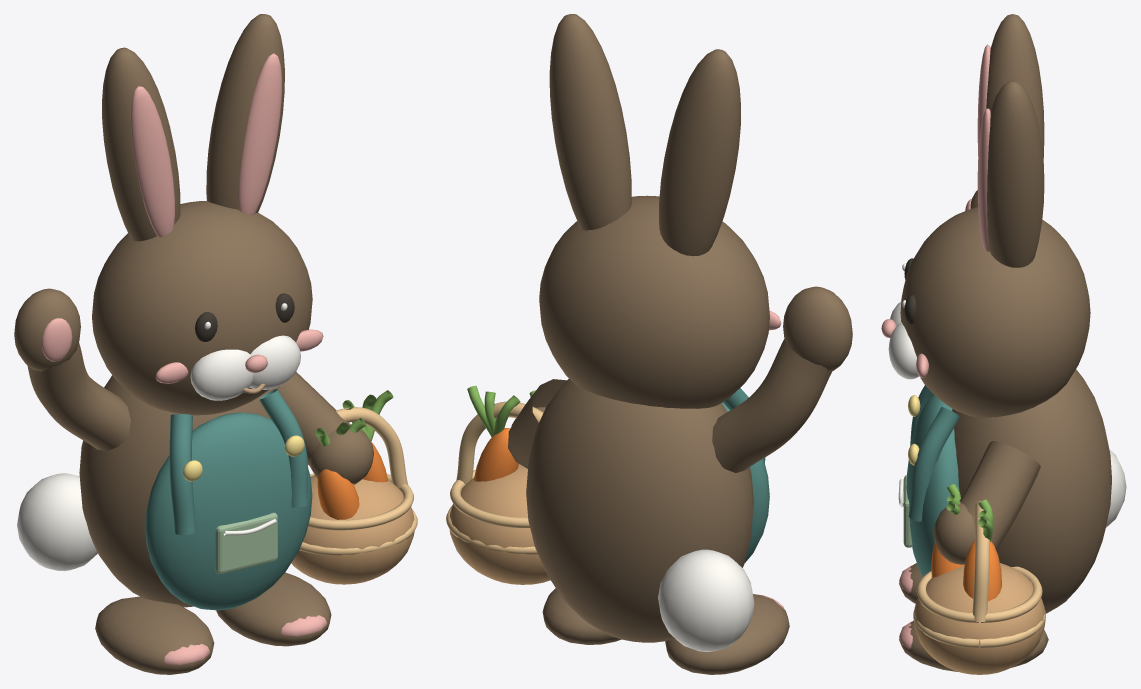
File: rabbit.glb
The picture shows the model from 3 angles, left to right: view 1: azimuth 30°, elevation 25°; view 2: azimuth 150°, elevation 25°; view 3: azimuth 270°, elevation 25°; orthographic projection. The views are drawn at different scales.
Parts seen in each view (by area): view 1: Rabbit | head, Rabbit | apron, Rabbit | body, Rabbit | long ear.001, Rabbit | basket body, Rabbit | long ear, Rabbit | foot, Rabbit | tail, Rabbit | waving arm, Rabbit | foot.001, Rabbit | ear lining, Rabbit | ear lining.001 (+15 smaller); view 2: Rabbit | body, Rabbit | head, Rabbit | long ear.001, Rabbit | long ear, Rabbit | waving arm, Rabbit | tail, Rabbit | basket body, Rabbit | waving paw, Rabbit | foot, Rabbit | foot.001, Rabbit | basket arm, Rabbit | picnic carrot.001 (+4 smaller); view 3: Rabbit | head, Rabbit | body, Rabbit | long ear.001, Rabbit | basket body, Rabbit | basket arm, Rabbit | apron, Rabbit | long ear, Rabbit | apron strap.001, Rabbit | basket paw, Rabbit | basket weave.002, Rabbit | basket handle, Rabbit | ear lining.001 (+9 smaller).
Boxes of the visible parts, x1=… form: Rabbit | head: x1=92, y1=200, x2=312, y2=415; Rabbit | apron: x1=145, y1=412, x2=312, y2=610; Rabbit | body: x1=79, y1=375, x2=280, y2=607; Rabbit | long ear.001: x1=206, y1=14, x2=284, y2=213; Rabbit | basket body: x1=291, y1=475, x2=414, y2=584; Rabbit | long ear: x1=102, y1=47, x2=180, y2=241; Rabbit | foot: x1=95, y1=596, x2=214, y2=674; Rabbit | tail: x1=17, y1=473, x2=97, y2=571; Rabbit | waving arm: x1=27, y1=343, x2=130, y2=451; Rabbit | foot.001: x1=216, y1=572, x2=331, y2=646; Rabbit | ear lining: x1=130, y1=86, x2=174, y2=237; Rabbit | ear lining.001: x1=238, y1=53, x2=281, y2=214; Rabbit | body: x1=526, y1=379, x2=753, y2=642; Rabbit | head: x1=539, y1=195, x2=769, y2=408; Rabbit | long ear.001: x1=549, y1=14, x2=631, y2=230; Rabbit | long ear: x1=659, y1=49, x2=740, y2=256; Rabbit | waving arm: x1=712, y1=339, x2=831, y2=472; Rabbit | tail: x1=658, y1=549, x2=754, y2=651; Rabbit | basket body: x1=449, y1=464, x2=550, y2=584; Rabbit | waving paw: x1=783, y1=286, x2=852, y2=372; Rabbit | foot: x1=665, y1=594, x2=789, y2=674; Rabbit | foot.001: x1=542, y1=588, x2=621, y2=644; Rabbit | basket arm: x1=508, y1=379, x2=566, y2=468; Rabbit | picnic carrot.001: x1=474, y1=428, x2=518, y2=481; Rabbit | head: x1=900, y1=207, x2=1090, y2=418; Rabbit | body: x1=952, y1=369, x2=1111, y2=613; Rabbit | long ear.001: x1=987, y1=80, x2=1044, y2=267; Rabbit | basket body: x1=913, y1=563, x2=1045, y2=674; Rabbit | basket arm: x1=959, y1=441, x2=1040, y2=550; Rabbit | apron: x1=906, y1=395, x2=959, y2=576; Rabbit | long ear: x1=986, y1=14, x2=1044, y2=159; Rabbit | apron strap.001: x1=908, y1=407, x2=959, y2=521; Rabbit | basket paw: x1=933, y1=501, x2=975, y2=564; Rabbit | basket weave.002: x1=916, y1=566, x2=1042, y2=622; Rabbit | basket handle: x1=972, y1=501, x2=989, y2=622; Rabbit | ear lining.001: x1=977, y1=108, x2=990, y2=251.
Bounding box in the file's own units: 1.51 × 2.25 × 0.851.
